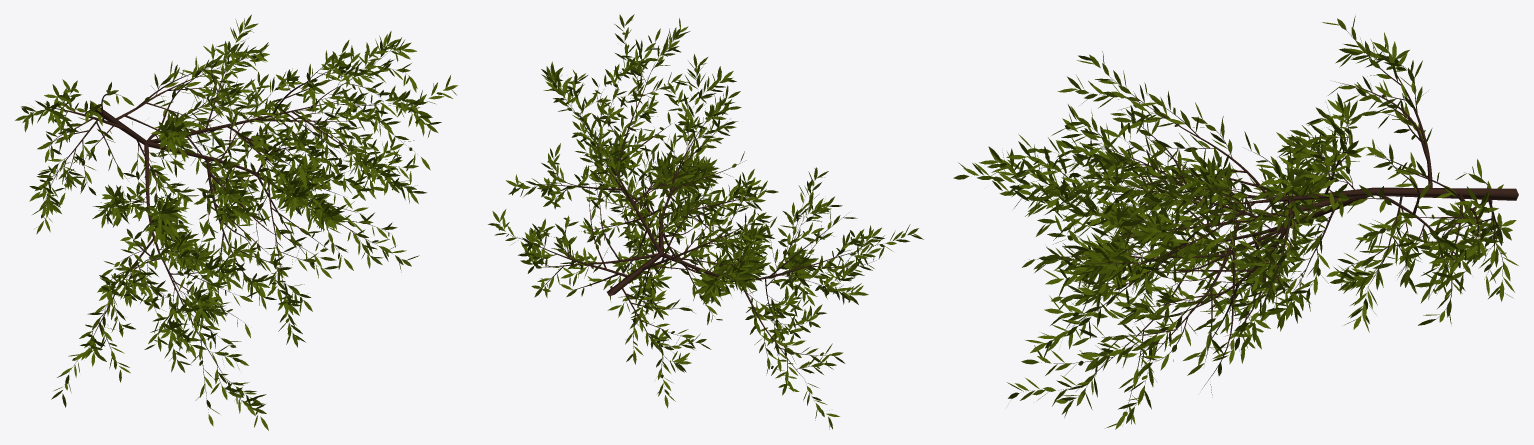
File: bush.obj
3 views of the same model, side by side, from view 1: azimuth 30°, elevation 25°; view 2: azimuth 150°, elevation 25°; view 3: azimuth 270°, elevation 25° (orthographic). The views are drawn at different scales.
Parts seen in each view (by area): view 1: bush_leaves; view 2: bush_leaves; view 3: bush_leaves.
Part boxes in pixels (x1,y1,x2,y2): bush_leaves: (15,14,457,430); bush_leaves: (488,14,923,429); bush_leaves: (953,16,1518,429).
Size of the model in its own units: 19.29 by 17.62 by 19.83.
